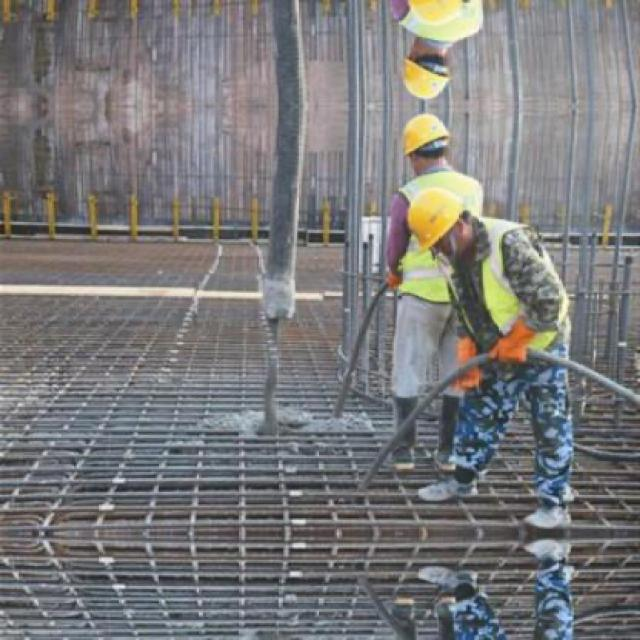con casco: (403, 188, 472, 274), (376, 110, 440, 186)
